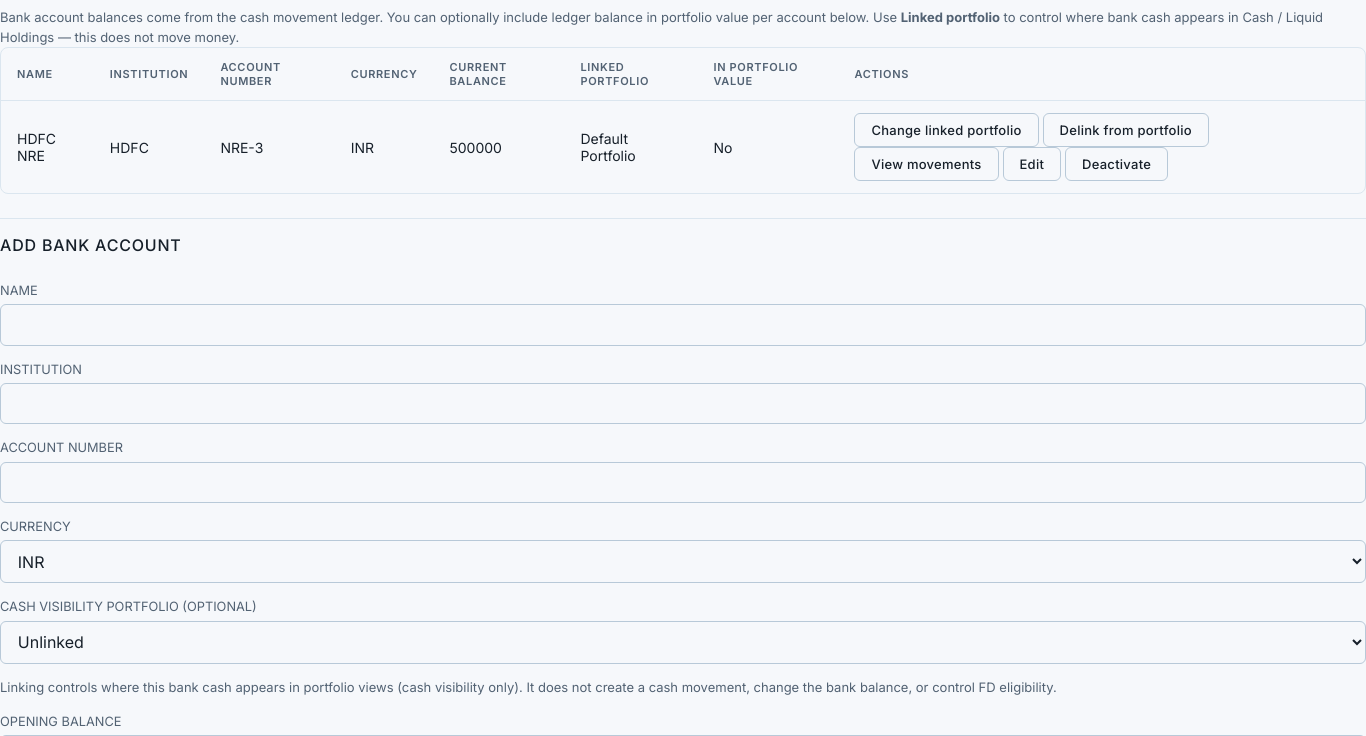
Scenario: BankAccountManagement › shows FD warning when changing link on account with active FDs
The image size is (1366, 736).
Click the button "Change linked portfolio": (946, 130) [854, 113, 1039, 147]
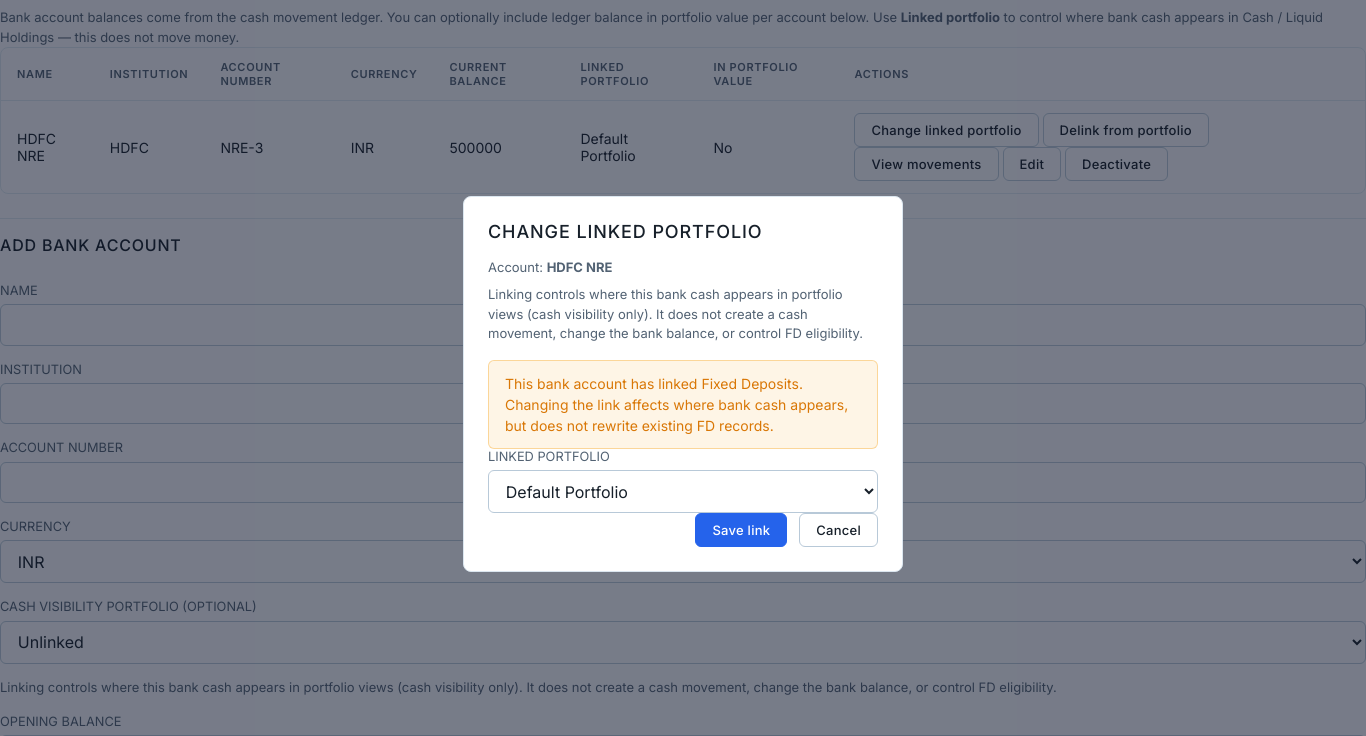
Expected: the dialog is shown, [463, 196, 903, 572]
Expected: the text "does not rewrite existing fd records" is shown, [505, 375, 848, 434]
